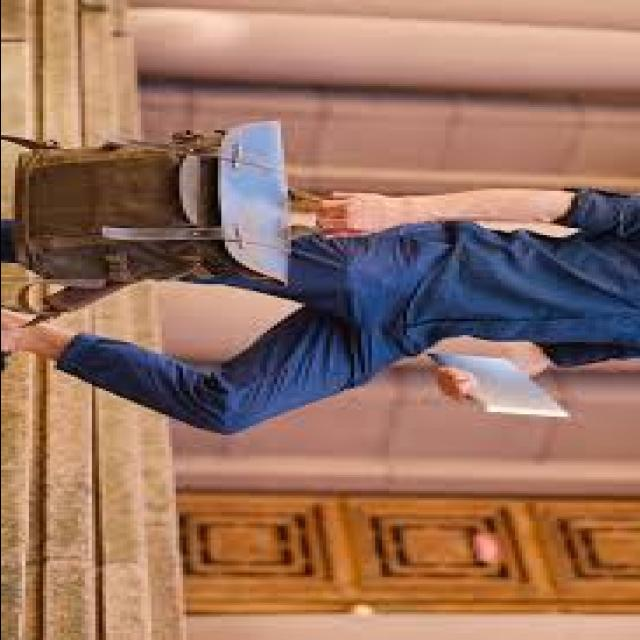backpack: (9, 115, 295, 295)
